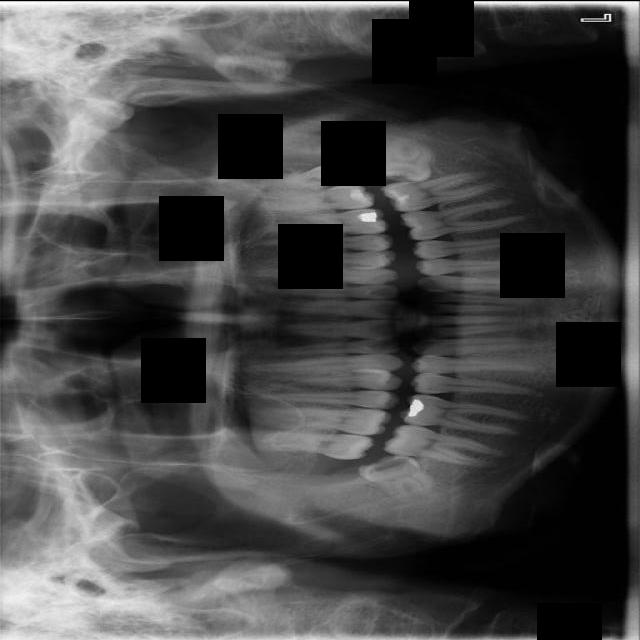52: (397, 383, 445, 433), (368, 453, 419, 488), (343, 204, 389, 238), (327, 182, 376, 210), (380, 181, 427, 210)
BioHorizons Implant: (246, 180, 379, 219)
BioLife Implant: (256, 157, 362, 200)
Biomet 3i Implant: (366, 132, 436, 186)
Blue Sky Bio Implant: (379, 167, 500, 215)
Caries: (231, 425, 376, 461)
Implant: (383, 420, 499, 468)
Keystone Dental Implant: (356, 442, 438, 512)
